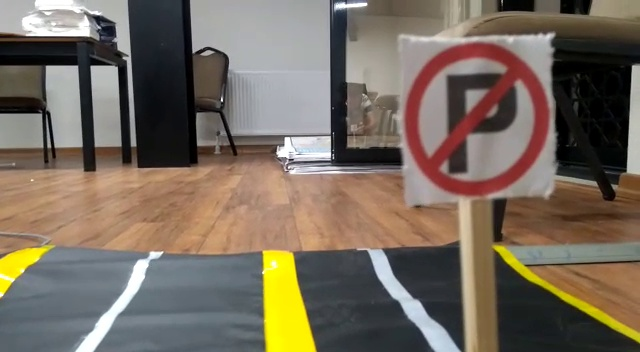park_yapilmaz: (394, 36, 549, 193)
